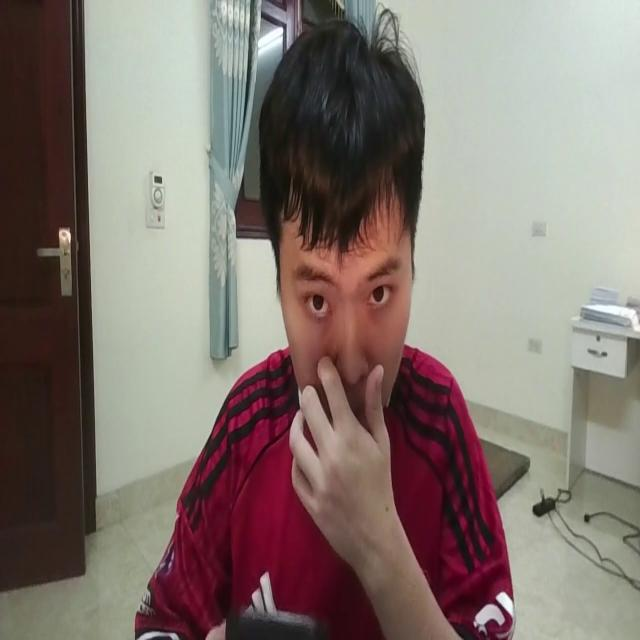phone: (224, 602, 316, 640)
student: (133, 10, 514, 640)
